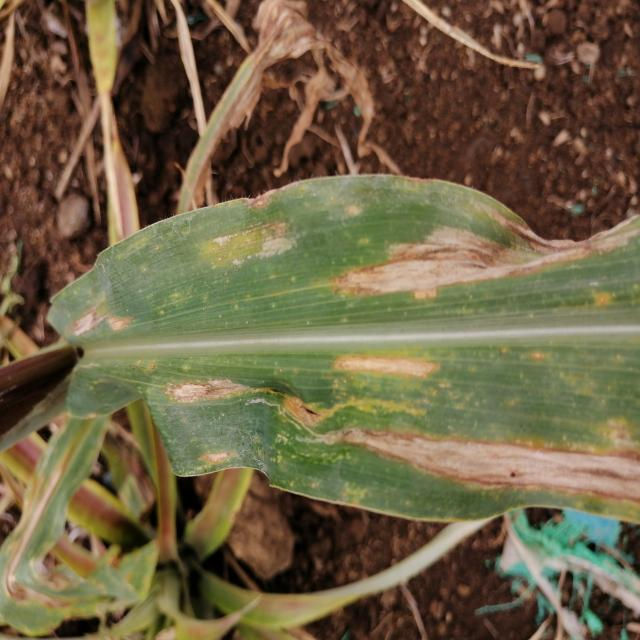Corn_Leaf_Blight: (69, 172, 640, 529)
